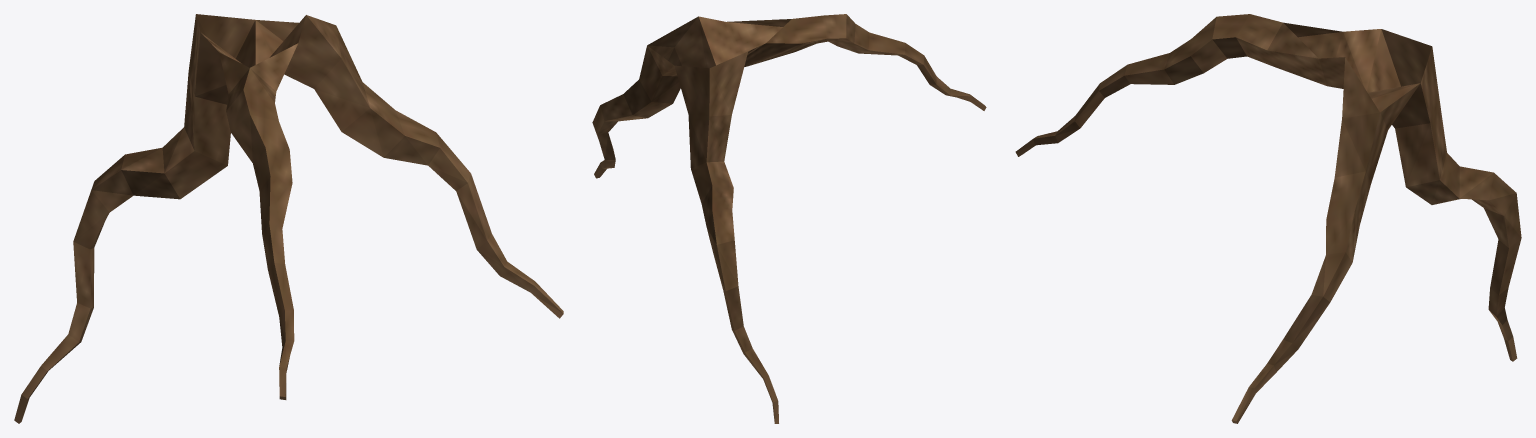
Rendered from common_reed_6.FBX.
The picture shows the model from 3 angles, left to right: view 1: azimuth 30°, elevation 25°; view 2: azimuth 150°, elevation 25°; view 3: azimuth 270°, elevation 25°; orthographic projection. The views are drawn at different scales.
Visible parts, largest first — view 1: Object009; view 2: Object009; view 3: Object009.
Boxes of the visible parts, x1,y1,x2,y2 form: Object009: (14,14,563,423); Object009: (592,14,986,423); Object009: (1015,14,1521,423).
Size of the model in its own units: 70.93 by 71.88 by 84.38.
Materials: 1 (1 with a texture image).
